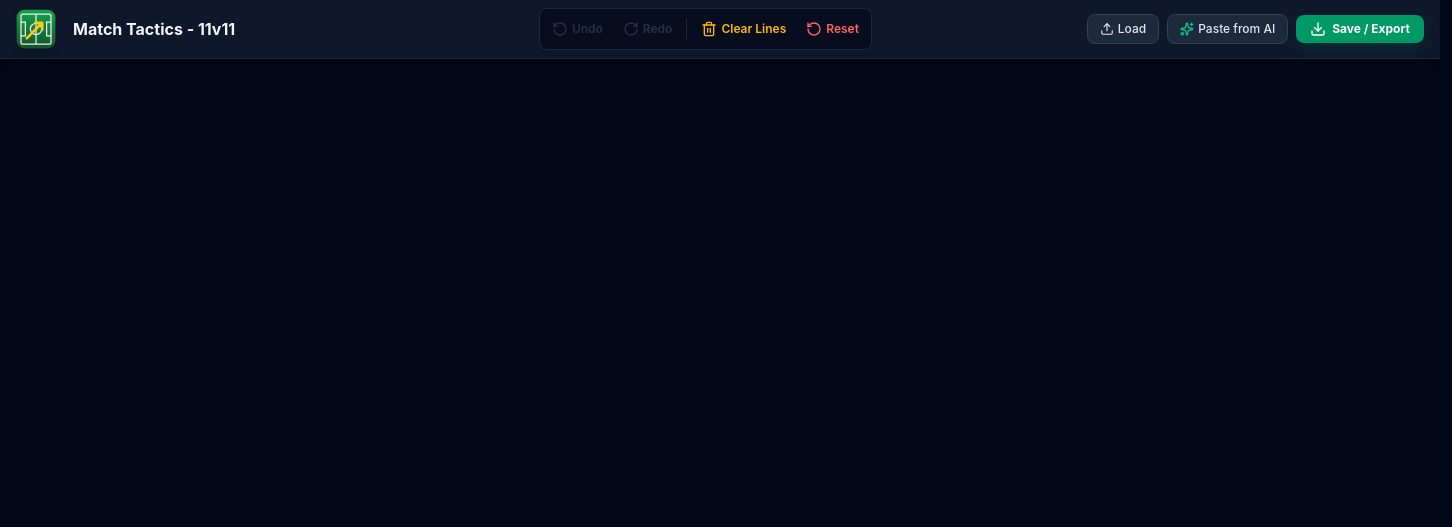
Test: TopHeader file menu › offers project saving, sharing and Ctrl/Cmd+S
This screenshot has width=1452, height=527.
Click the button "Save / Export": click(1360, 29) [1296,15,1424,43]
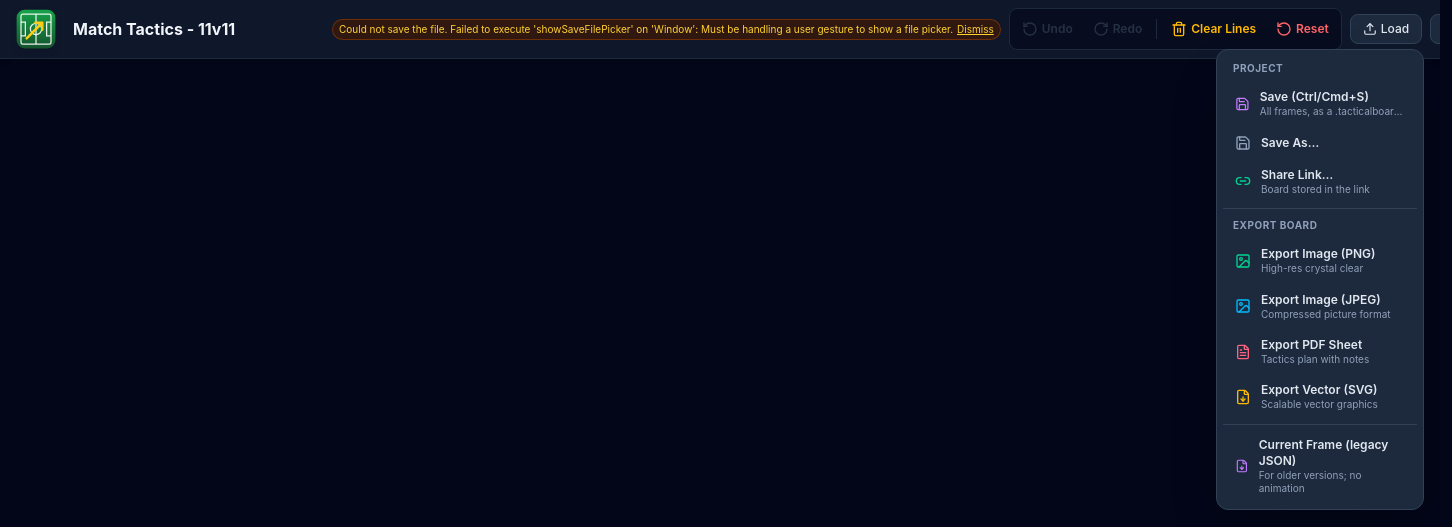
Now the text "Save (Ctrl/Cmd+S)" is shown, box [1260,89,1369,104]
Now the text "All frames, as a .tacticalboard file" is shown, box [1260,105,1405,119]
Now the text "Share Link…" is shown, box [1261,167,1333,182]
